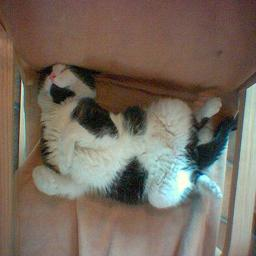cat: (128, 92, 256, 256)
chair: (122, 60, 256, 256)
